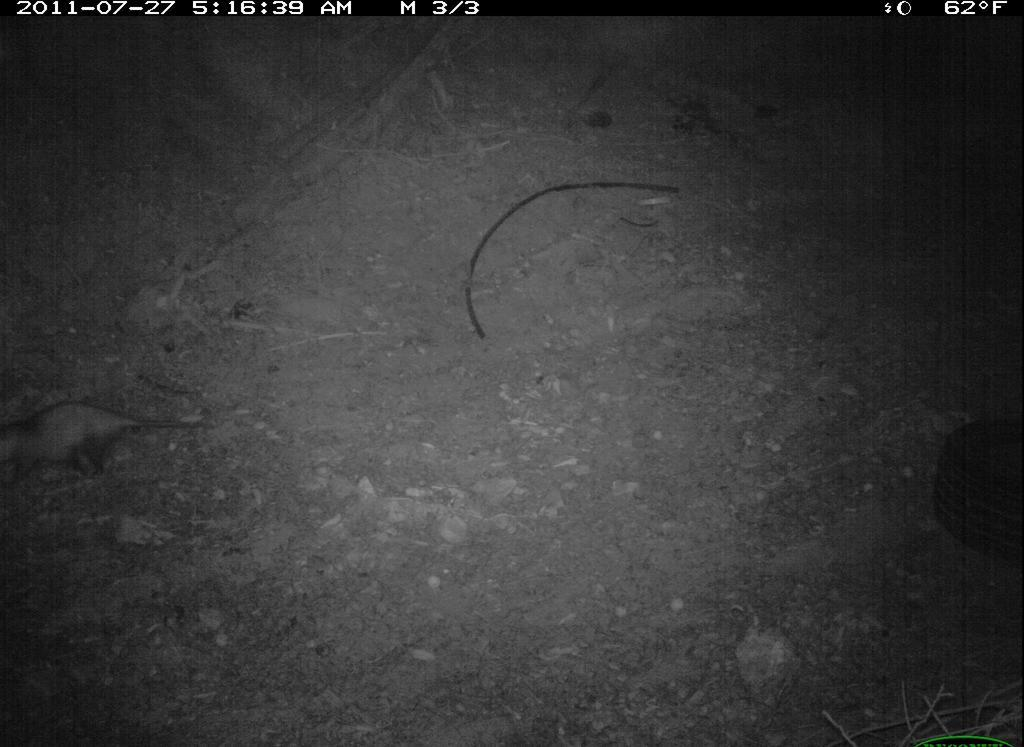opossum: (7, 388, 214, 486)
